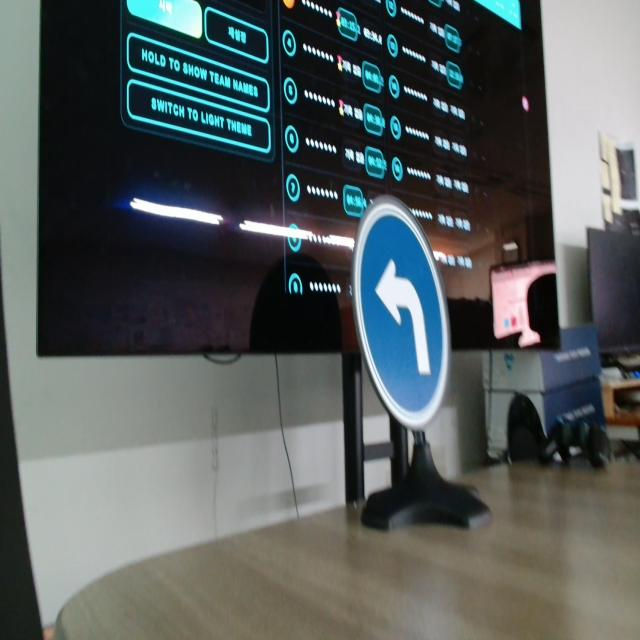left_direction: (338, 183, 463, 437)
